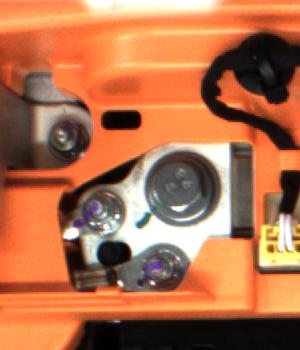nut_b: (142, 150, 220, 230)
screw_s: (137, 244, 184, 292), (78, 192, 125, 235), (44, 120, 82, 154)
